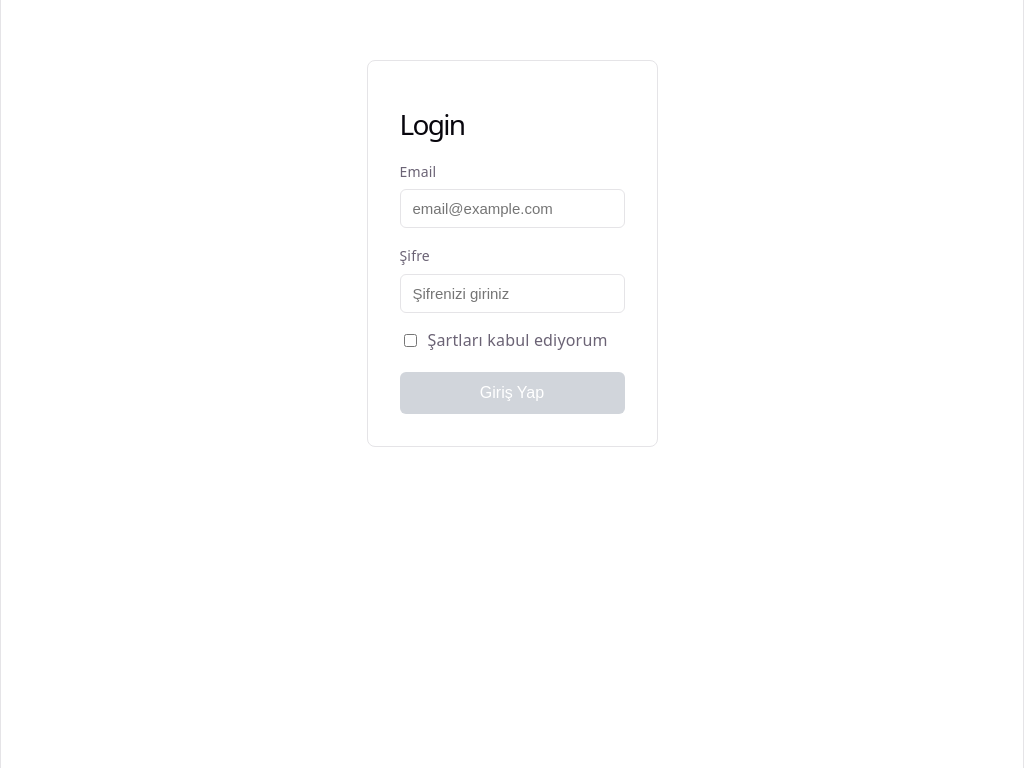
Scenario: Login Formu E2E Testleri › Hatalı durumlarda hata mesajları görünüyor ve buton disabled kalıyor › email ve password yanlış girildiğinde: 2 hata mesajı var, password hata mesajı görünüyor
Type "yanlis-email" into the field with id "email" at coordinates (513, 209), box x1=400 y1=189 x2=625 y2=228
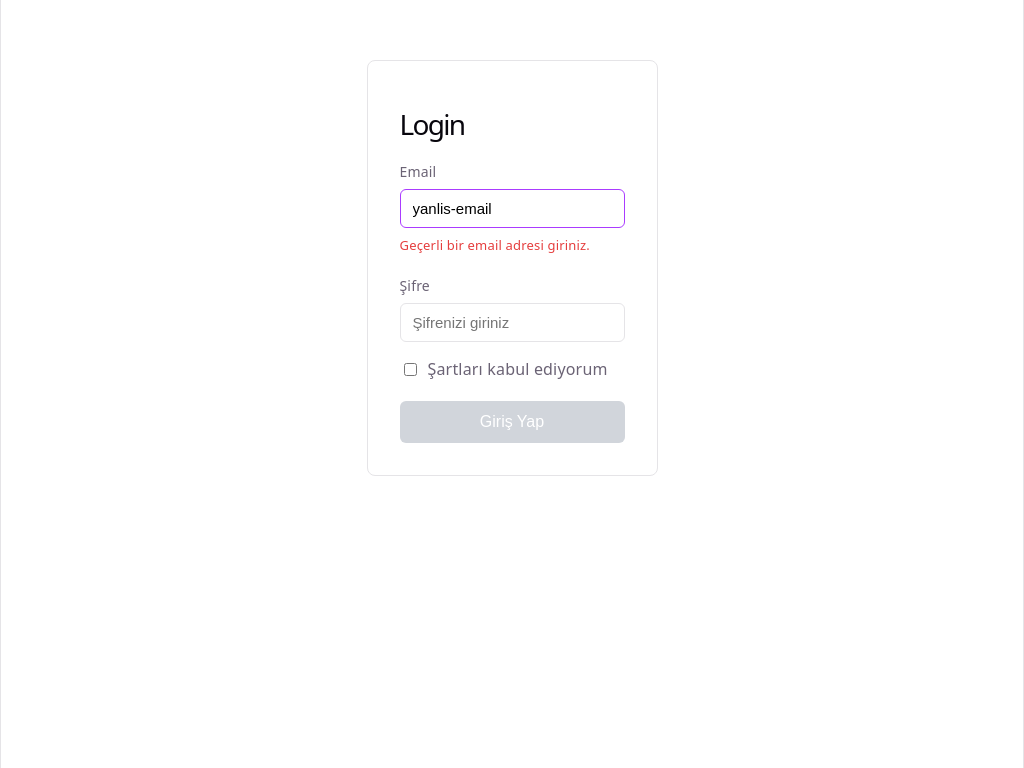
Type "zayif" into the password field labelled "Şifre" at coordinates (513, 323), box x1=400 y1=303 x2=625 y2=342
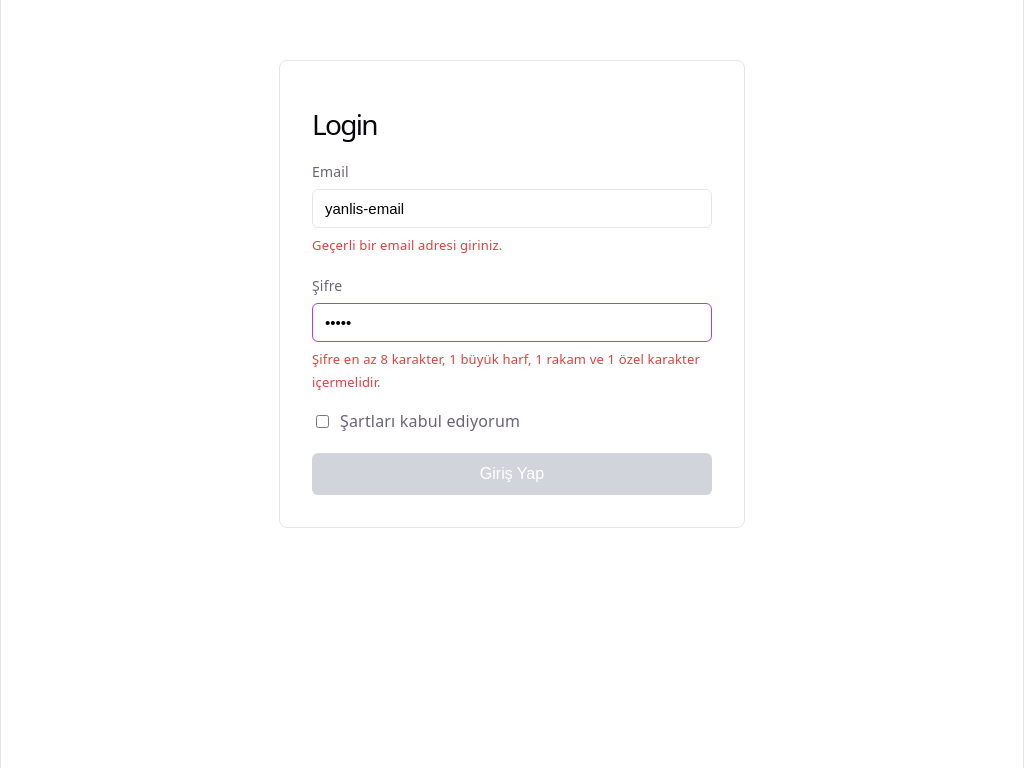
Expected: the number of elements with test id "email-error" is 1, x1=312 y1=236 x2=503 y2=254
Expected: the number of elements with test id "password-error" is 1, x1=312 y1=348 x2=712 y2=394
Expected: the text with test id "password-error" shows "Şifre en az 8 karakter", x1=312 y1=350 x2=700 y2=391
